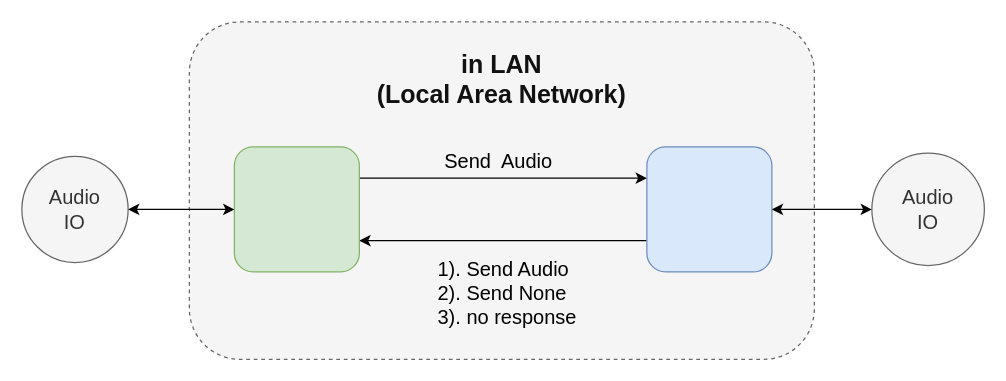
Image size: 1006x381. Some labels were removed from this diagram. The shapes that lost their labels are listed below. From the top down, each one's centre as x and y in pixels, then its label:
At [296,209]: "Mobile UDP Client".
At [709,209]: "ESP UDP Server".
